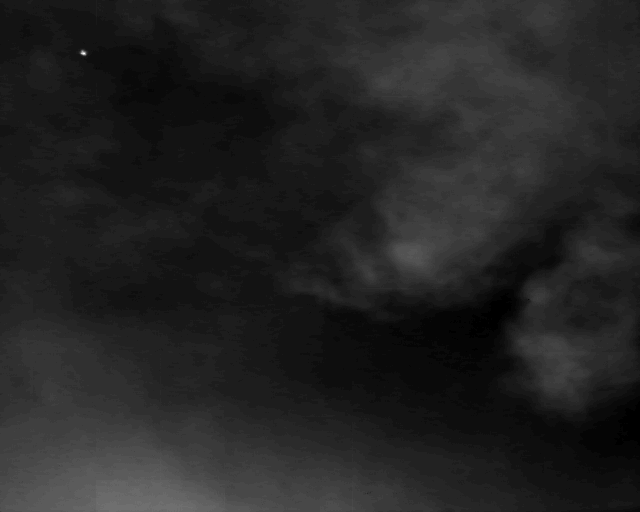Target: (80, 50, 88, 56)
